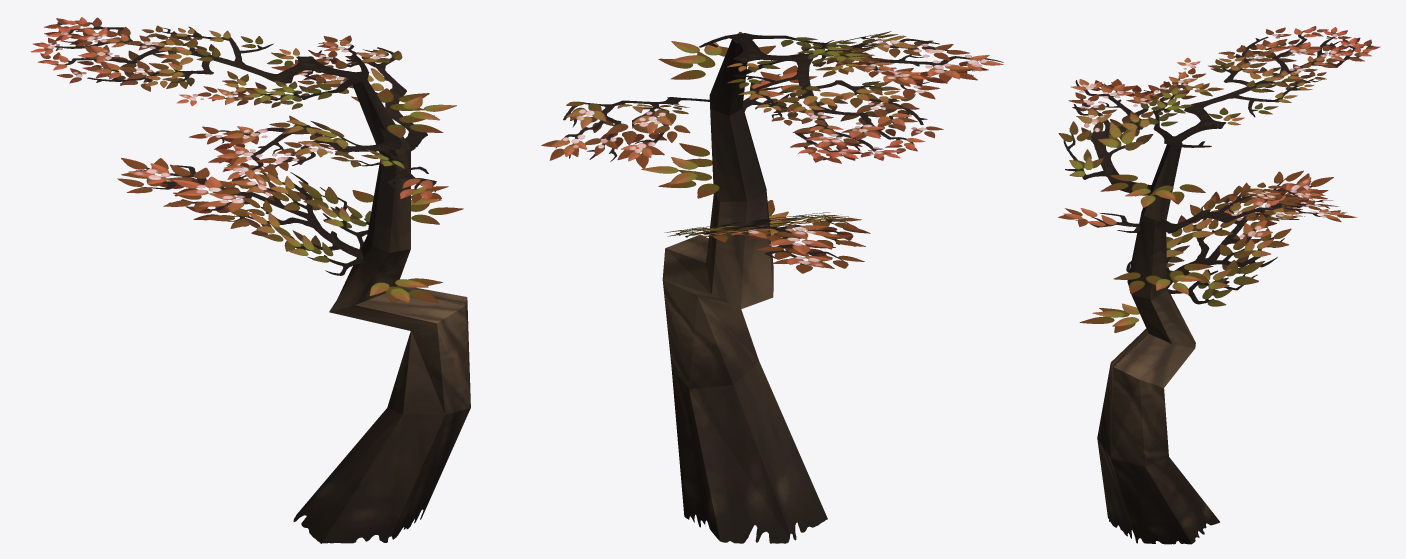
Rendered from cherrytree_small_02.fbx.
3 views of the same model, side by side, from view 1: azimuth 30°, elevation 25°; view 2: azimuth 150°, elevation 25°; view 3: azimuth 270°, elevation 25° (orthographic). The views are drawn at different scales.
Parts seen in each view (by area): view 1: obj1.021; view 2: obj1.021; view 3: obj1.021.
Boxes of the visible parts, x1,y1,x2,y2 form: obj1.021: [30, 17, 470, 543]; obj1.021: [541, 31, 1003, 543]; obj1.021: [1058, 26, 1380, 544].
Bounding box in the file's own units: 4.13 × 4.47 × 3.47.
